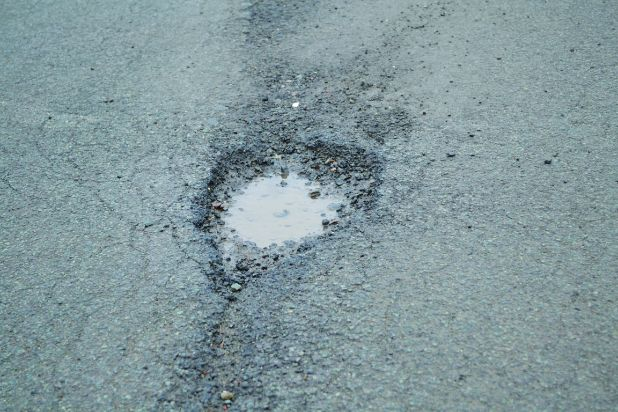pothole: (192, 135, 387, 287)
